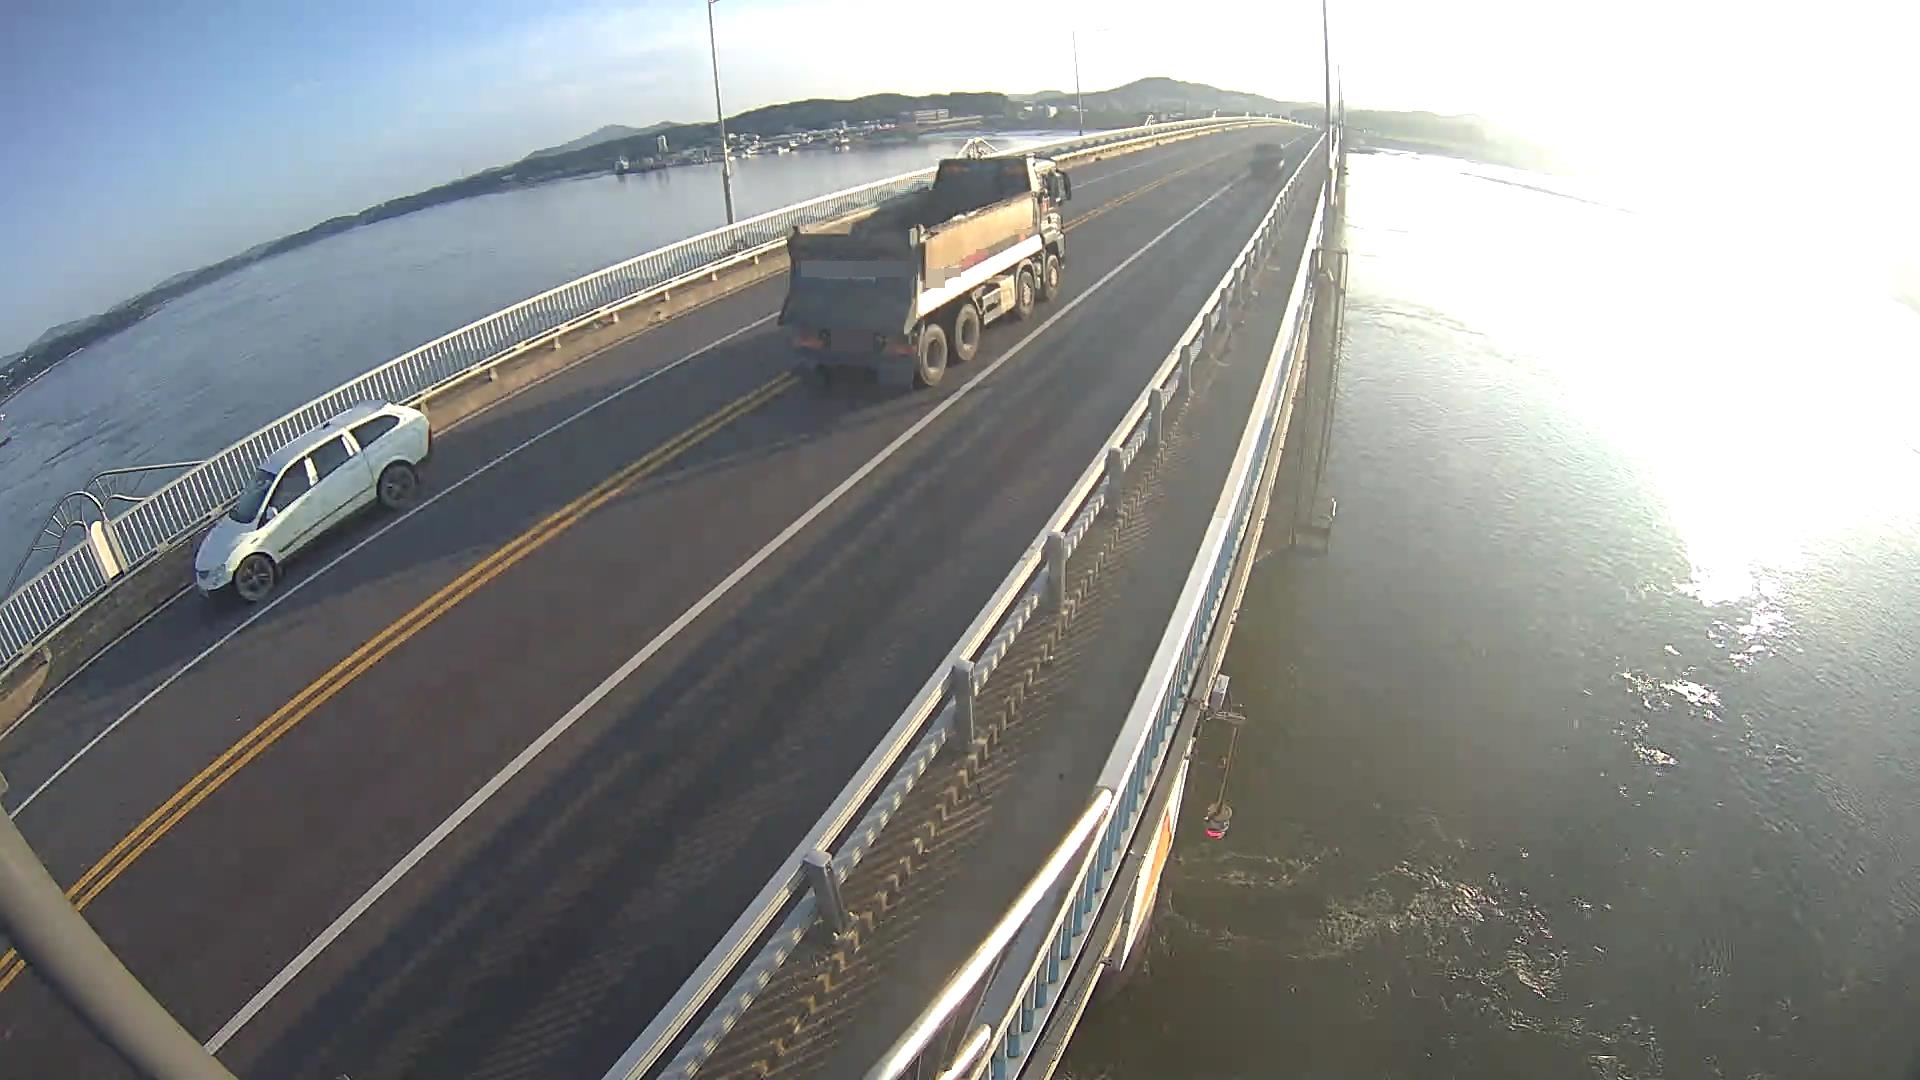정상차량: (777, 152, 1072, 391)
